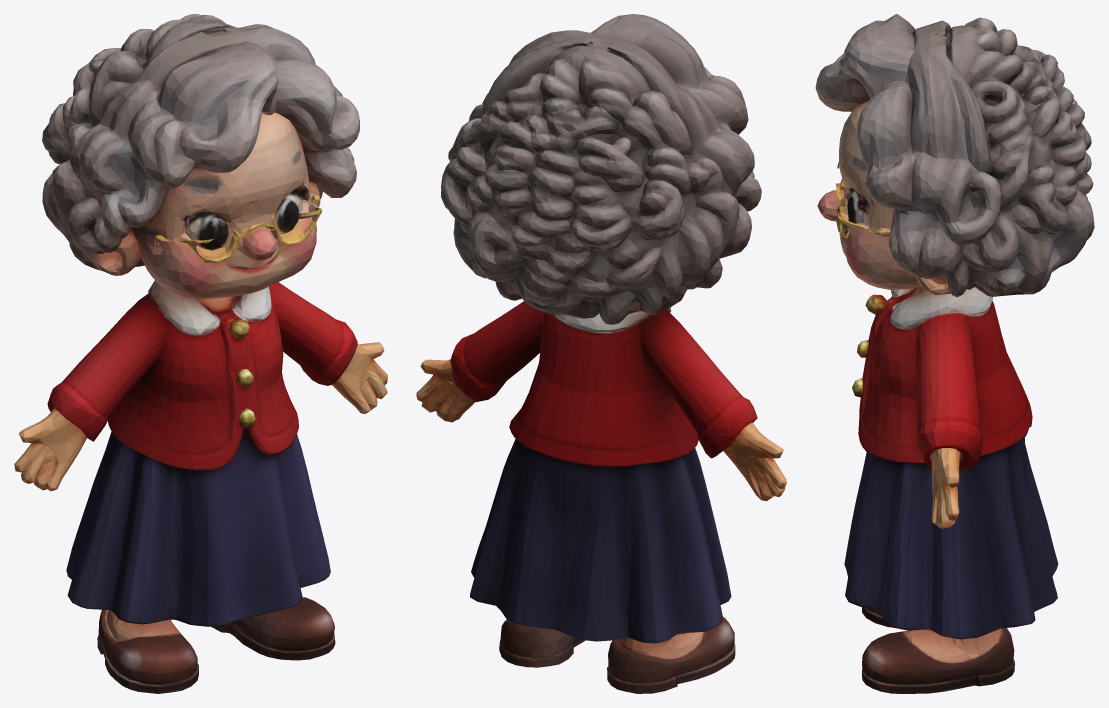
Rendered from yolcu-varyant-5.glb.
The picture shows the model from 3 angles, left to right: view 1: azimuth 30°, elevation 25°; view 2: azimuth 150°, elevation 25°; view 3: azimuth 270°, elevation 25°; orthographic projection.
Parts seen in each view (by area): view 1: world; view 2: world; view 3: world.
Boxes of the visible parts, box(x1,y1,x2,y2) form: world: box(14, 14, 387, 693); world: box(416, 14, 786, 693); world: box(815, 14, 1094, 693).
Bounding box in the file's own units: 0.635 × 0.9995 × 0.4129.
1 material, 1 textured.
